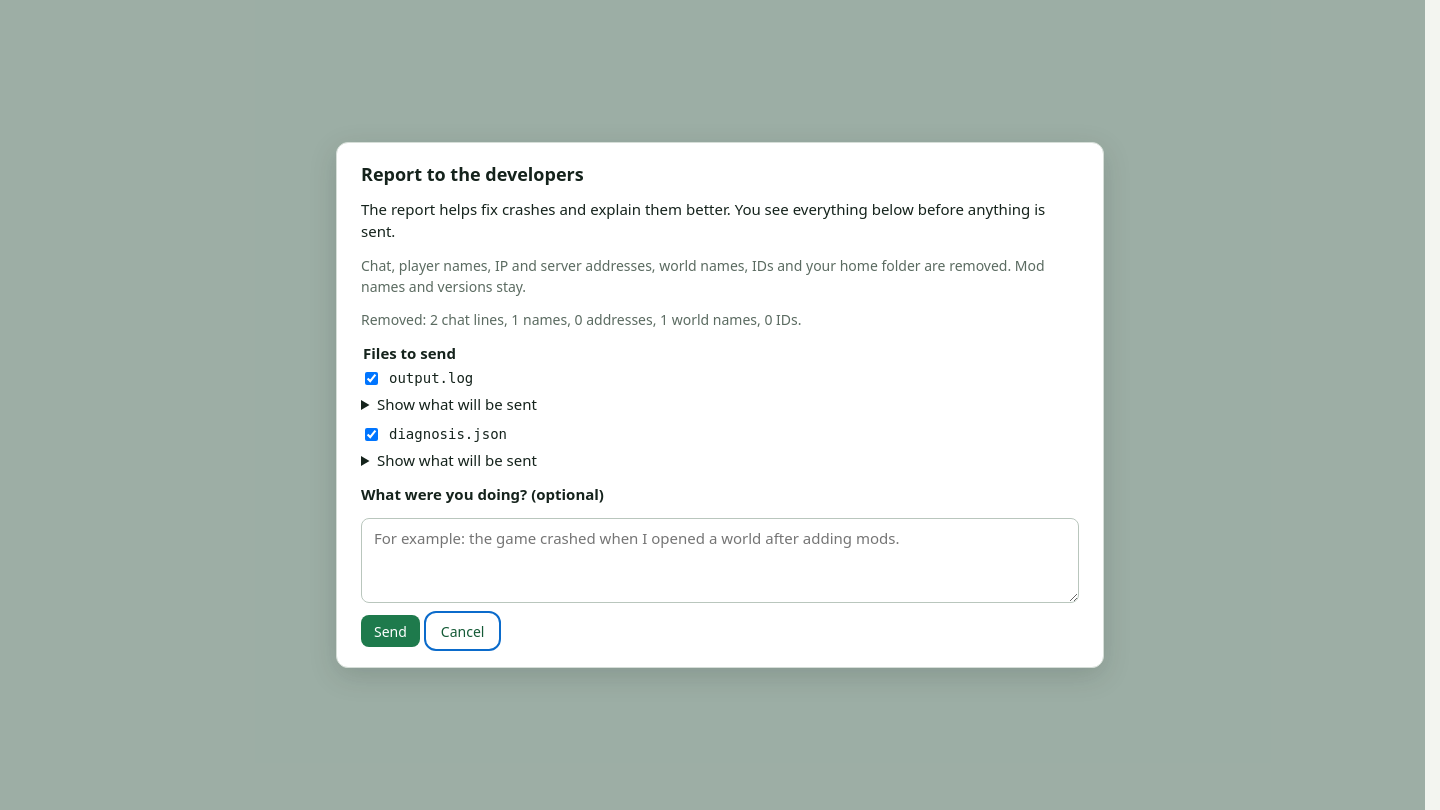
it: ReportDialog › shows the scrubbed files first and sends only the chosen ones with the note
The width and height of the screenshot is (1440, 810).
Expected: the text "Removed: 2 chat lines, 1 names, 0 addresses, 1 world names, 0 IDs." is shown, [361,310,802,329]
Step 1. Click the checkbox labelled "diagnosis.json" → (372, 434), box [365,428,378,441]
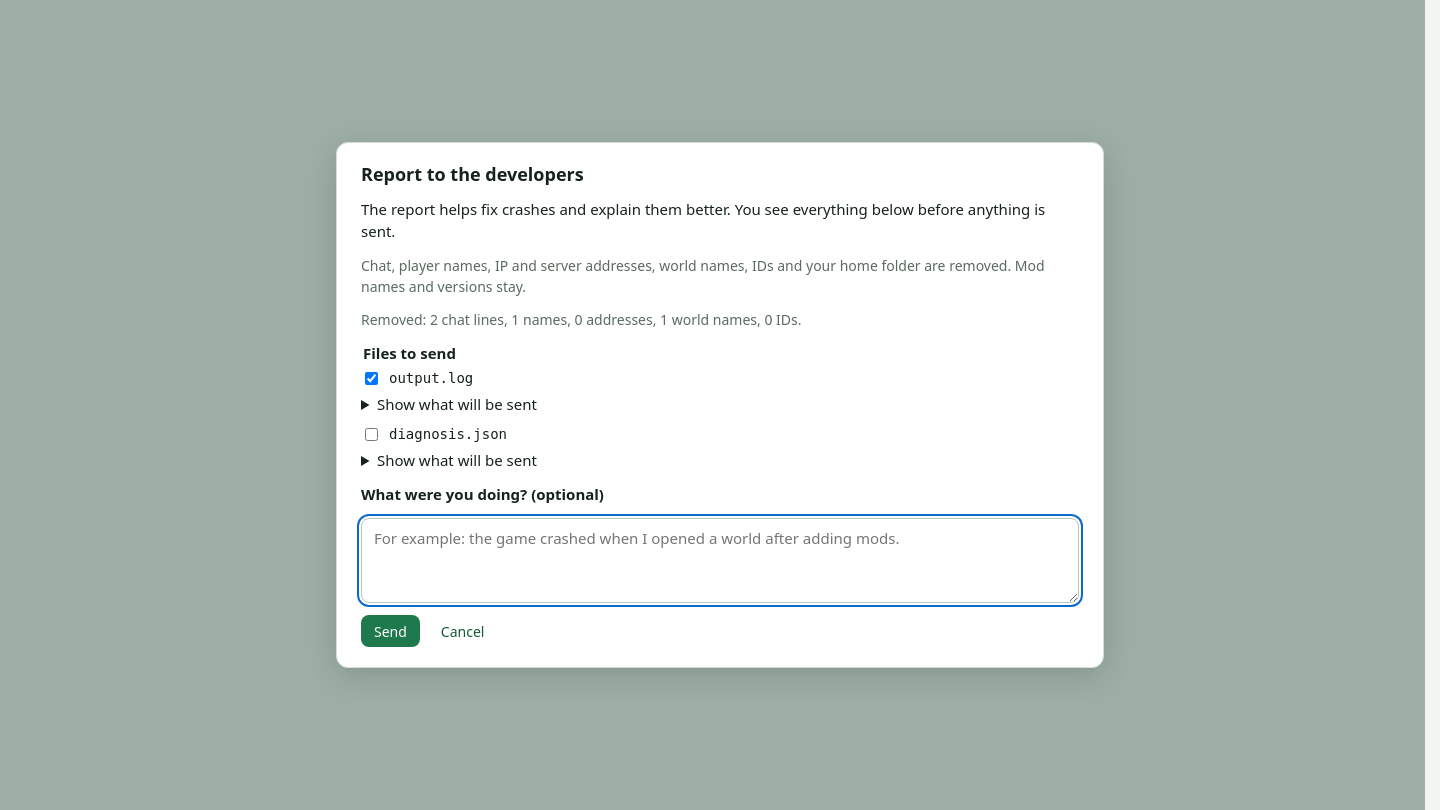
Step 2. Replace the text in the text box labelled "What were you doing? (optional)" with "  Opened a world  " → (720, 561), box [361,518,1079,603]
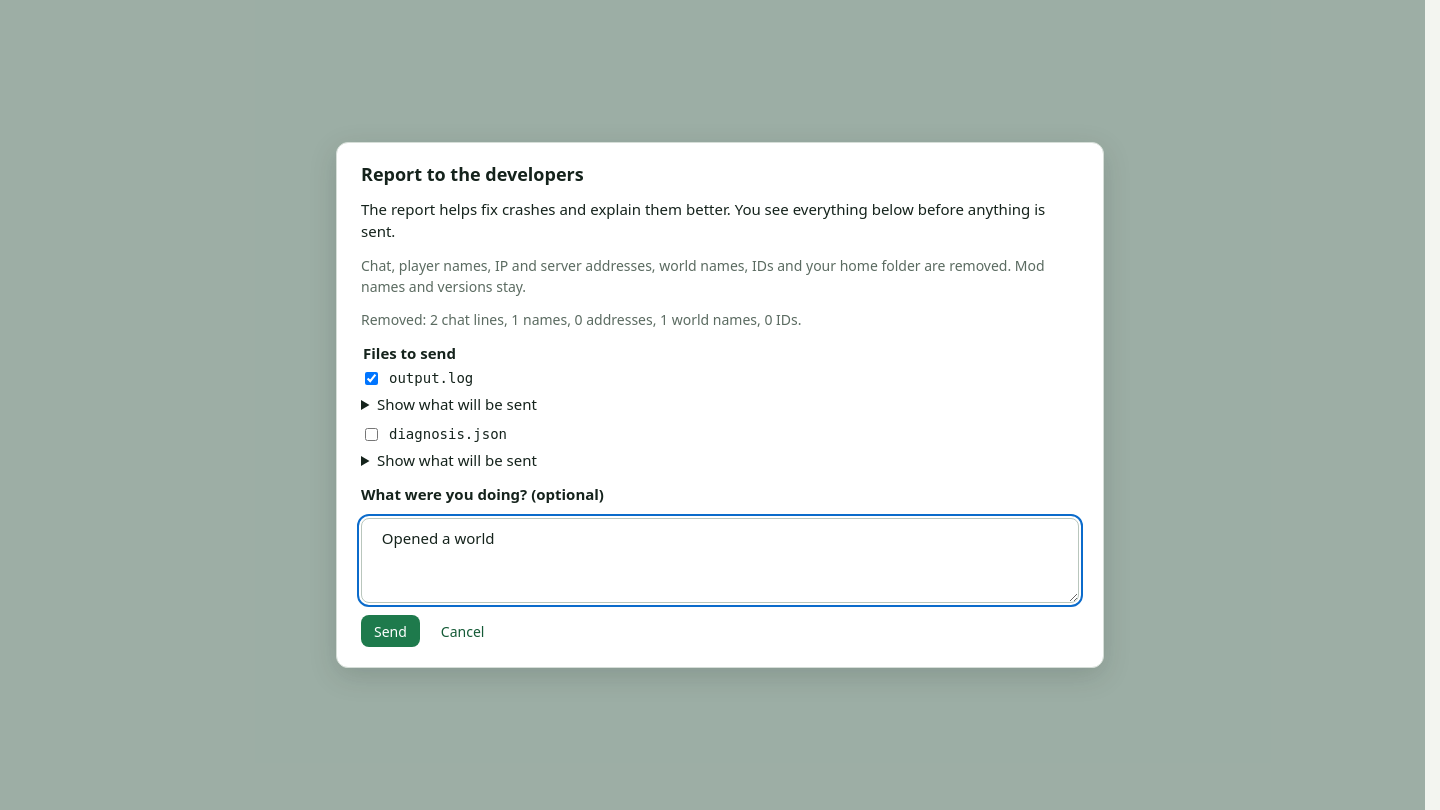
Step 3. Click the button "Send" → (390, 631), box [361,615,420,647]
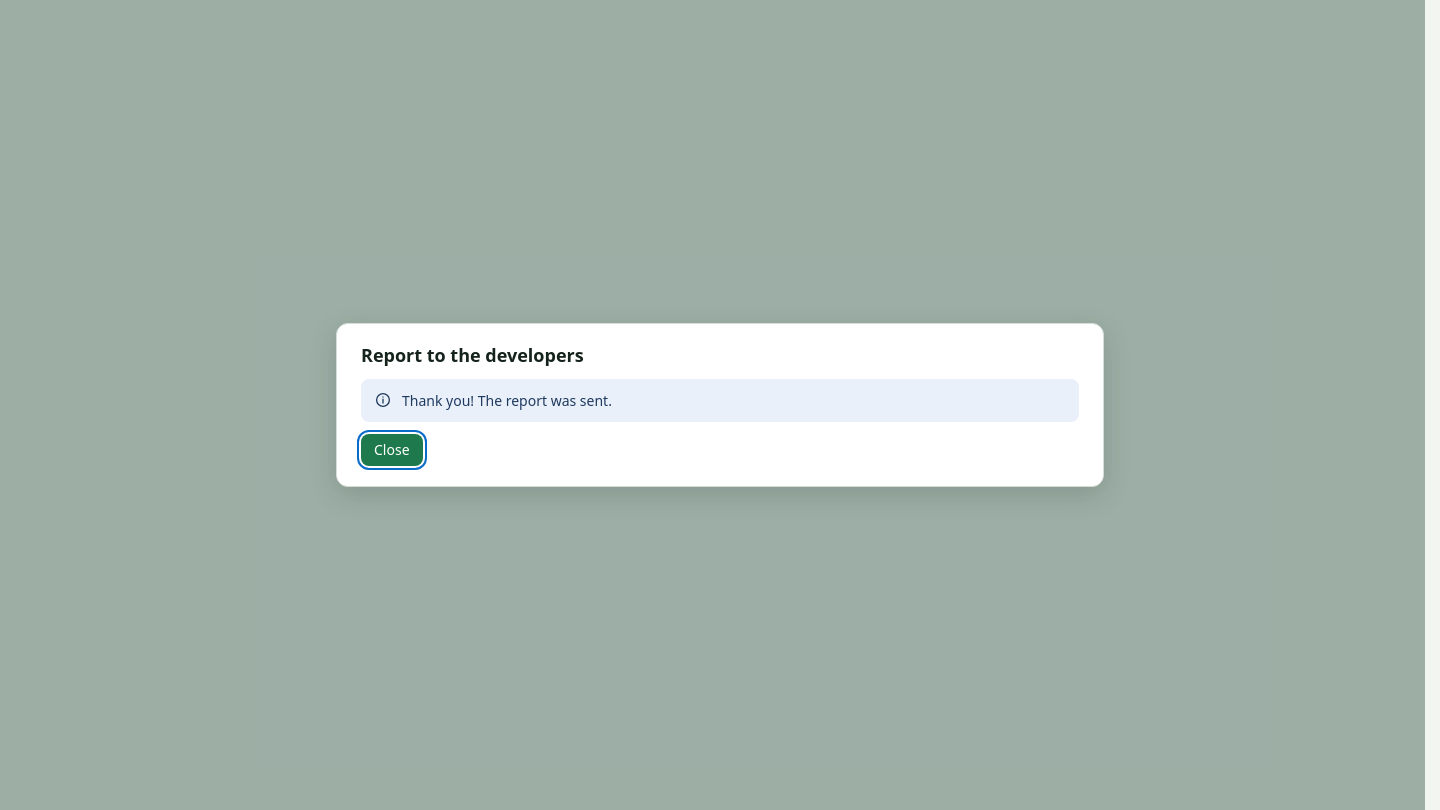
Result: the text "Thank you! The report was sent." is shown at [402,391,612,410]
